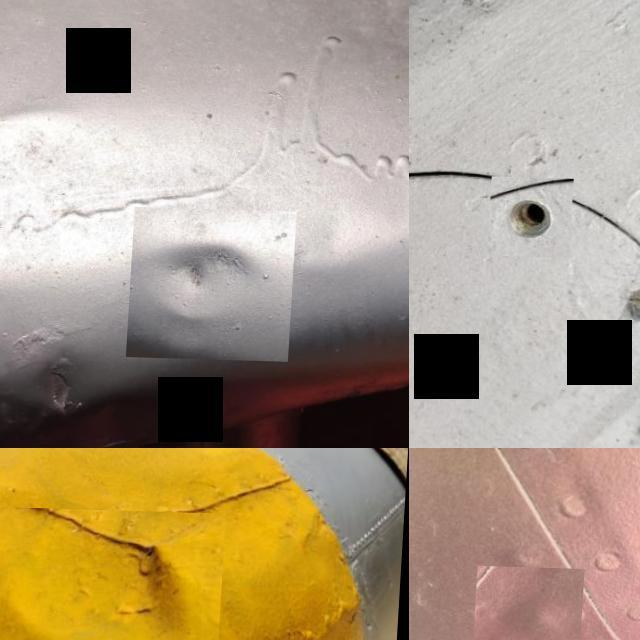Dent: (0, 505, 228, 640), (132, 205, 301, 359), (0, 324, 133, 441), (476, 563, 587, 640)
Missing_Fastener: (492, 173, 578, 254)
